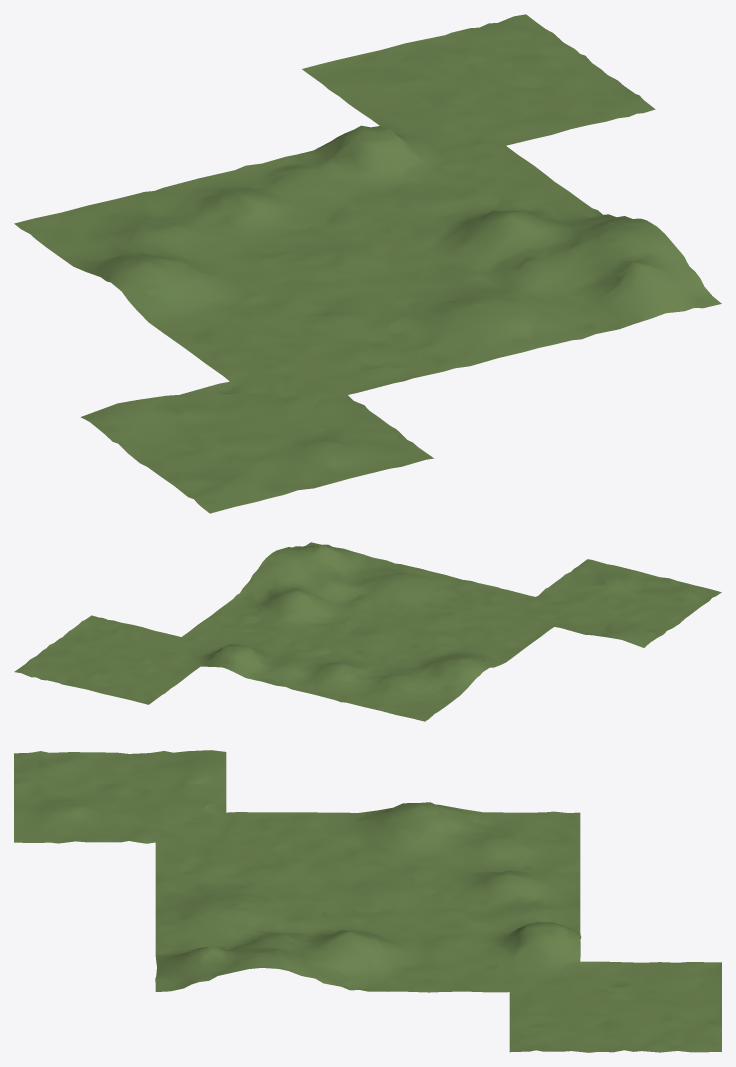
File: Landscape.fbx
3 renders of one model, top to bottom at view 1: azimuth 30°, elevation 25°; view 2: azimuth 150°, elevation 25°; view 3: azimuth 270°, elevation 25°, orthographic. The views are drawn at different scales.
Visible parts, largest first — view 1: Landscape; view 2: Landscape; view 3: Landscape.
Boxes of the visible parts, x1,y1,x2,y2 form: Landscape: (14,14,721,513); Landscape: (14,542,721,721); Landscape: (14,750,721,1052).
Bounding box in the file's own units: 3001 × 129 × 3000.
